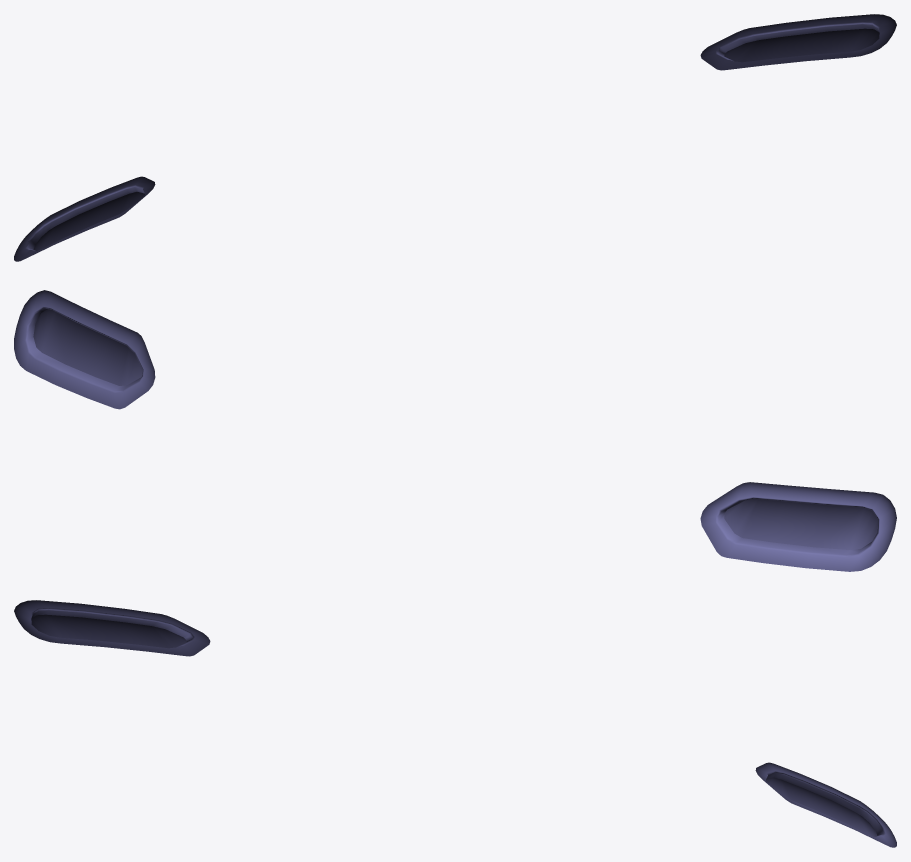
File: Agera_TailLight_Detail.fbx
3 renders of one model, top to bottom at view 1: azimuth 30°, elevation 25°; view 2: azimuth 150°, elevation 25°; view 3: azimuth 330°, elevation 25°, orthographic.
Visible parts, largest first — view 1: Agera_TailLight_Detail; view 2: Agera_TailLight_Detail; view 3: Agera_TailLight_Detail.
Part boxes in pixels (x1,y1,x2,y2): Agera_TailLight_Detail: [14, 14, 896, 261]; Agera_TailLight_Detail: [14, 290, 896, 571]; Agera_TailLight_Detail: [14, 600, 896, 847].
Bounding box in the file's own units: 171 × 11.48 × 14.72.
